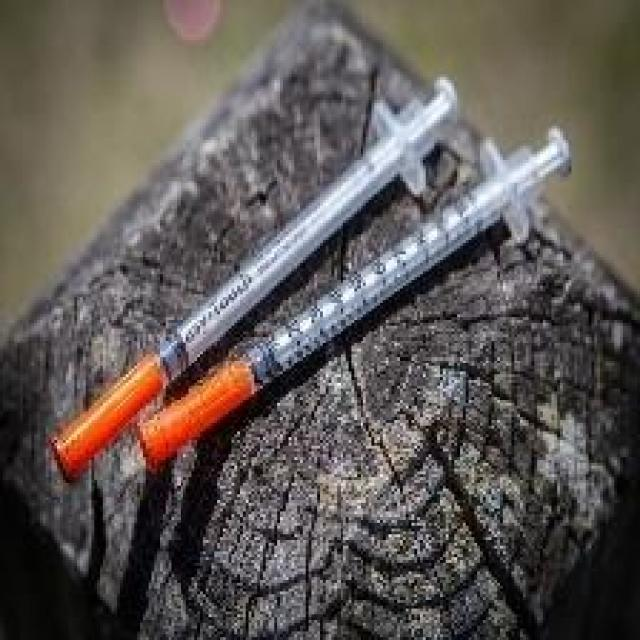syringe: (48, 59, 579, 476)
